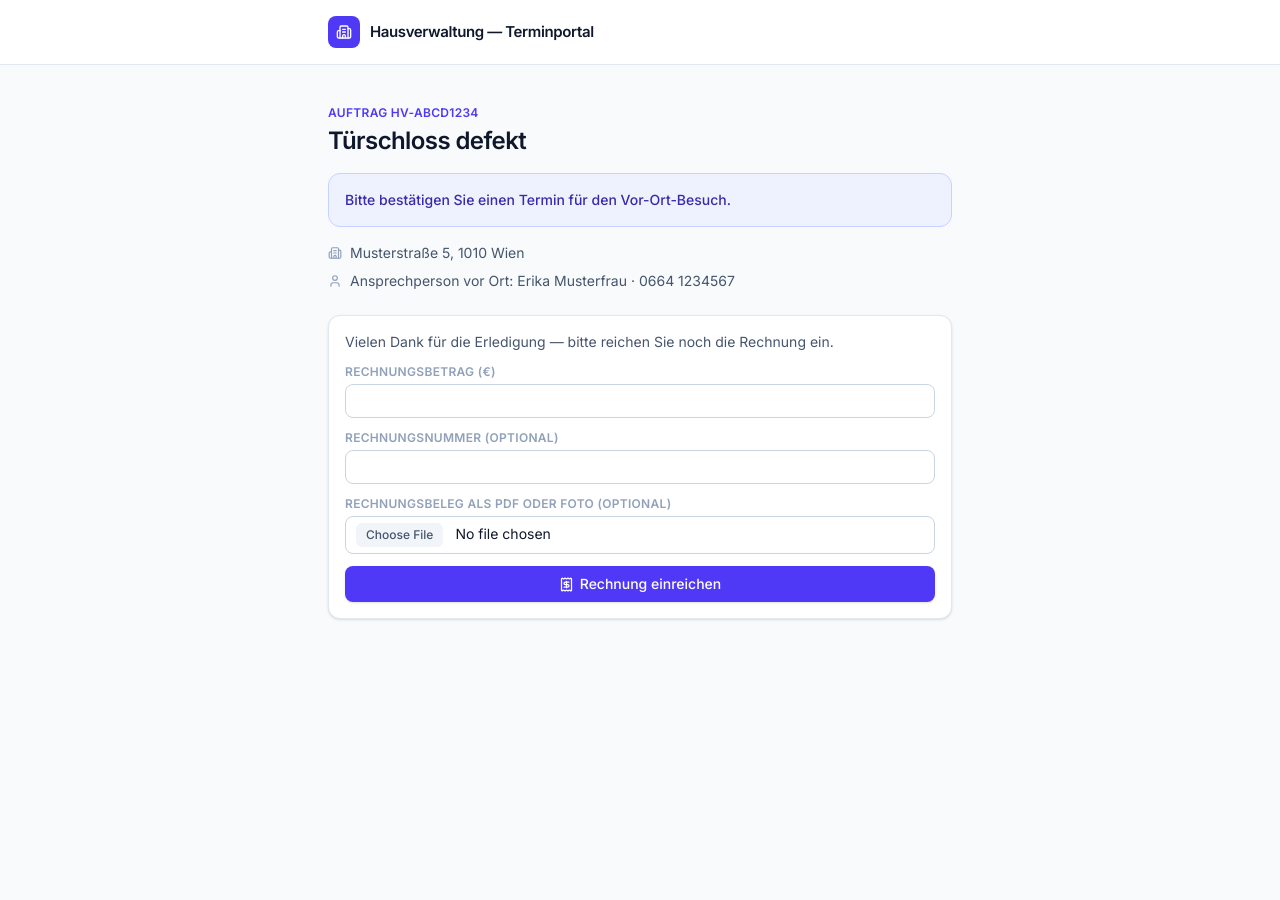
Test case: DienstleisterPortal › sendet die eingegebene Rechnung bei ARBEIT_ERLEDIGT
This screenshot has width=1280, height=900.
Check: the button "Rechnung einreichen" is shown, box x1=345 y1=566 x2=935 y2=602
Type "249.50" into the number field labelled "Rechnungsbetrag (€)". click: (640, 401)
box: x1=345 y1=384 x2=935 y2=418
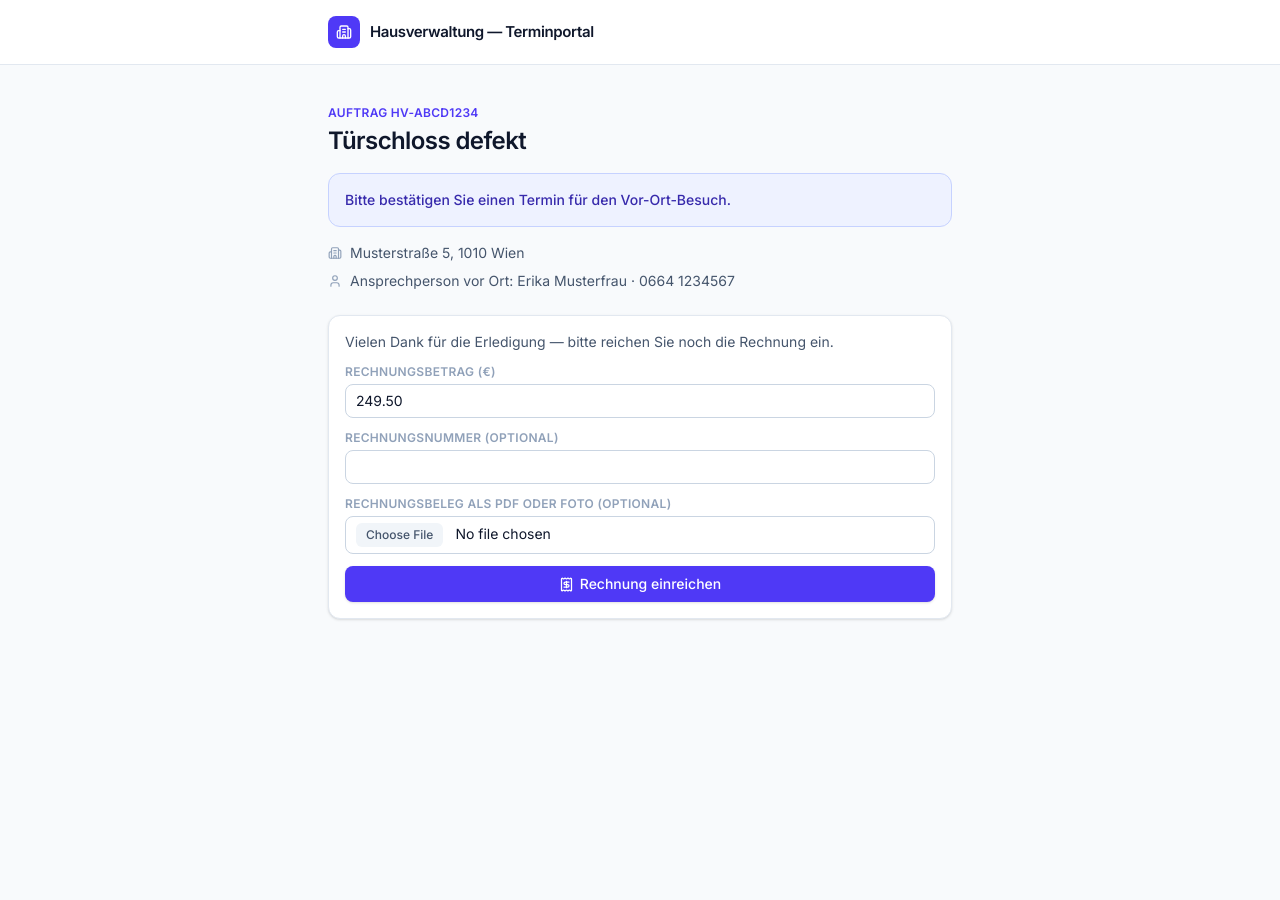
Type "RE-2026-042" into the field labelled "Rechnungsnummer (optional)". click: (640, 467)
box: x1=345 y1=450 x2=935 y2=484
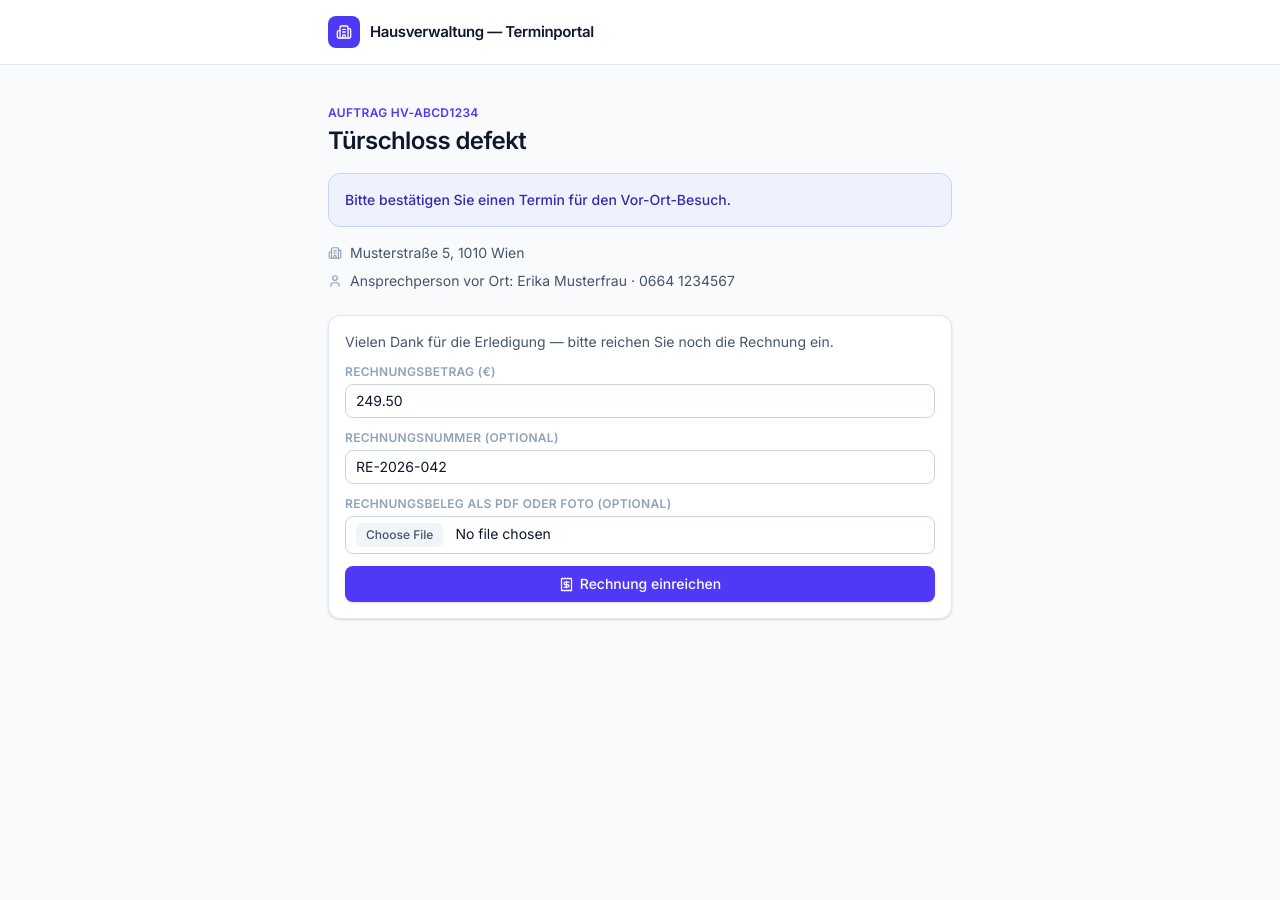
Click the button "Rechnung einreichen". click: (640, 584)
box: x1=345 y1=566 x2=935 y2=602
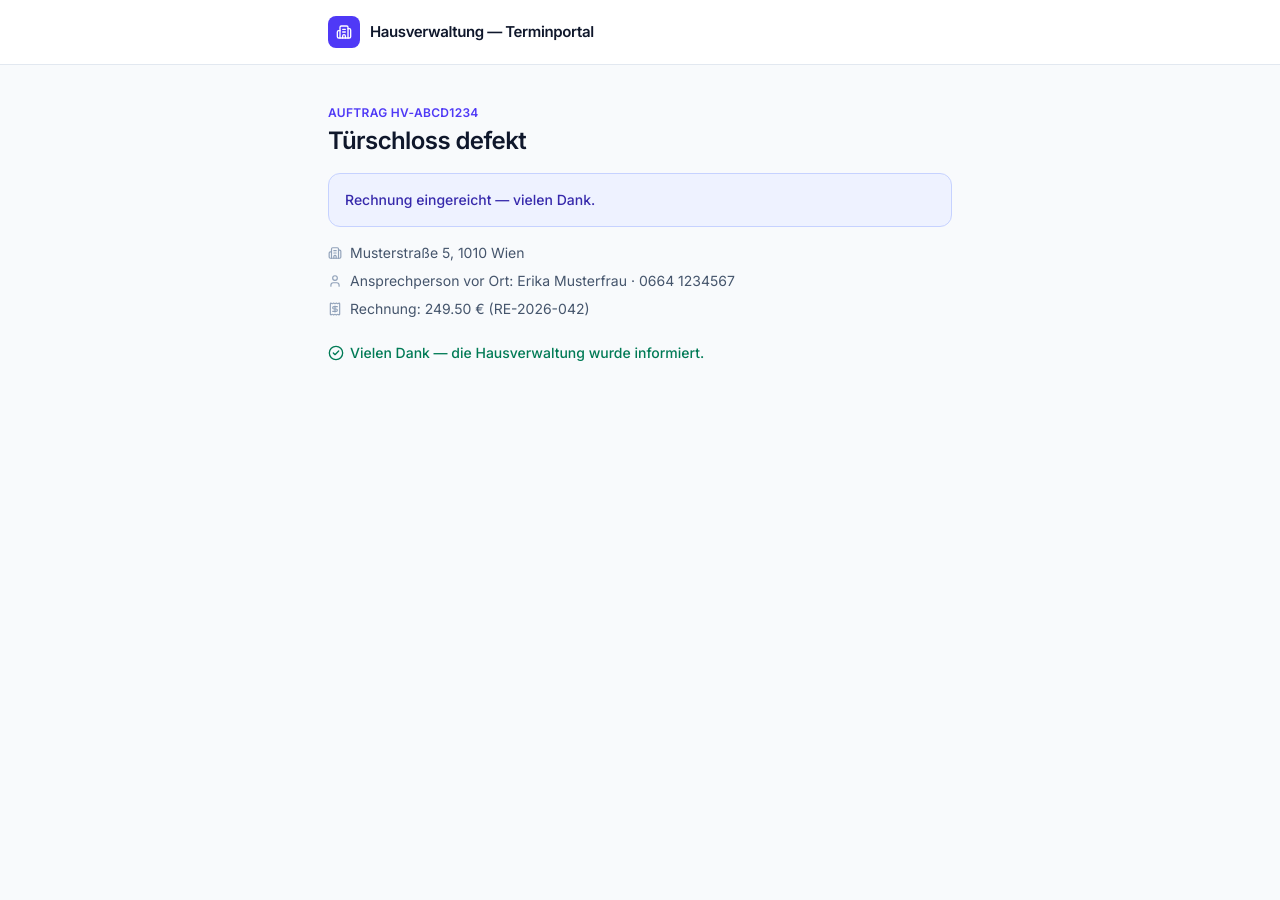
Check: the text "Vielen Dank — die Hausverwaltung wurde informiert." is shown, box x1=328 y1=344 x2=704 y2=361
